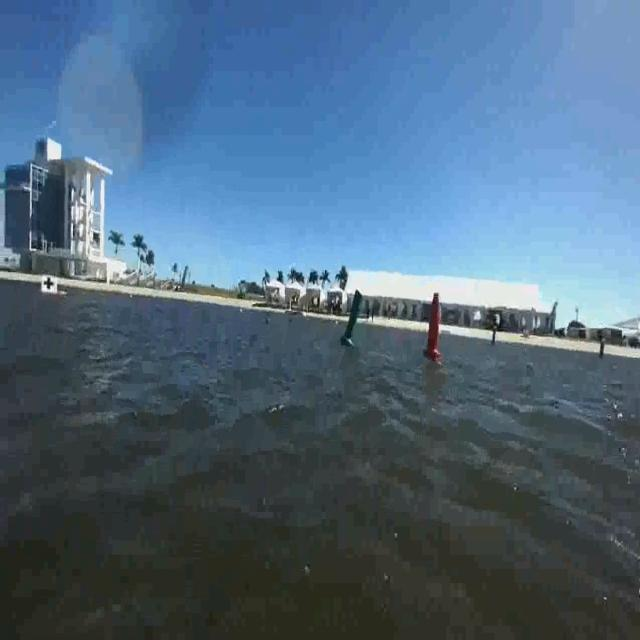green-column-buoy: (341, 287, 365, 345)
red-column-buoy: (422, 291, 444, 361)
